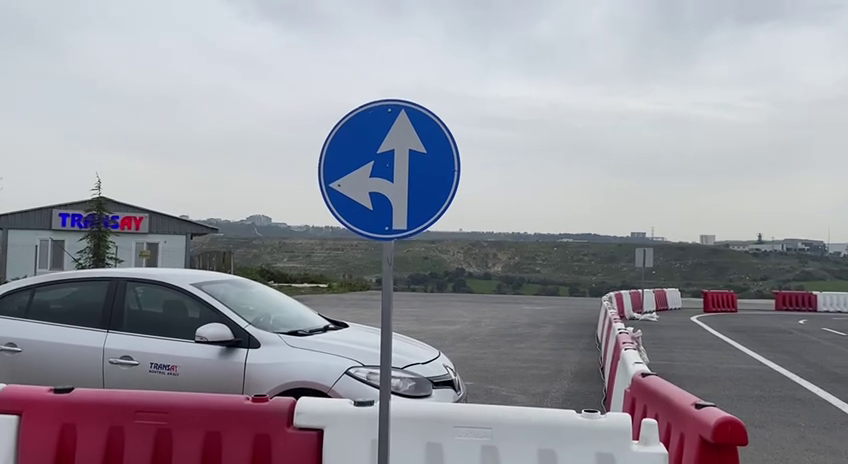forwardAndLeft: (315, 94, 466, 240)
